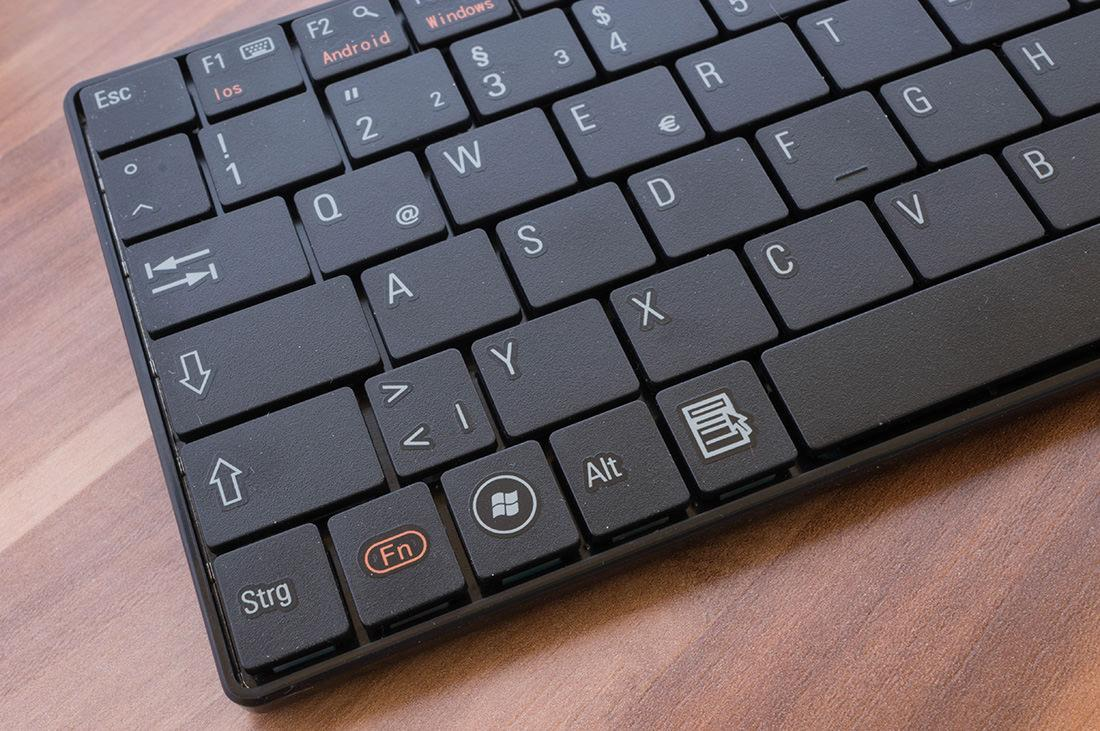1: (198, 83, 343, 204)
2: (322, 42, 470, 158)
3: (446, 2, 599, 116)
4: (568, 1, 719, 68)
a: (358, 224, 519, 357)
alt-left: (545, 394, 692, 536)
b: (999, 116, 1097, 230)
c: (738, 196, 916, 329)
caret: (98, 128, 213, 241)
d: (624, 132, 788, 257)
e: (548, 62, 706, 175)
f: (755, 88, 919, 213)
g: (878, 48, 1042, 173)
h: (1002, 12, 1093, 114)
keyboard: (59, 8, 1093, 710)
less: (361, 341, 499, 478)
q: (288, 150, 450, 273)
r: (673, 17, 832, 130)
s: (493, 180, 654, 313)
shift-left: (174, 385, 389, 550)
shift-lock: (146, 274, 380, 438)
space: (753, 209, 1093, 463)
strg-left: (209, 515, 356, 684)
t: (794, 1, 952, 83)
tab: (118, 194, 315, 335)
v: (872, 156, 1045, 280)
w: (423, 105, 578, 224)
x: (605, 248, 776, 382)
y: (468, 296, 640, 436)
